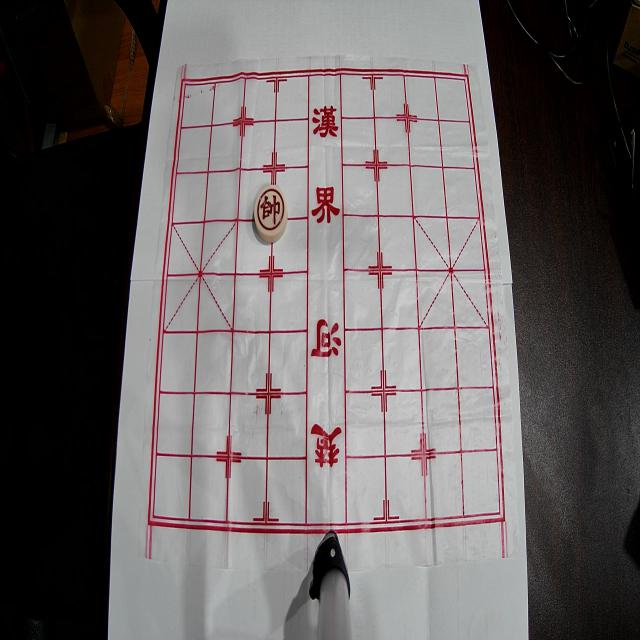red-general: (254, 185, 288, 242)
